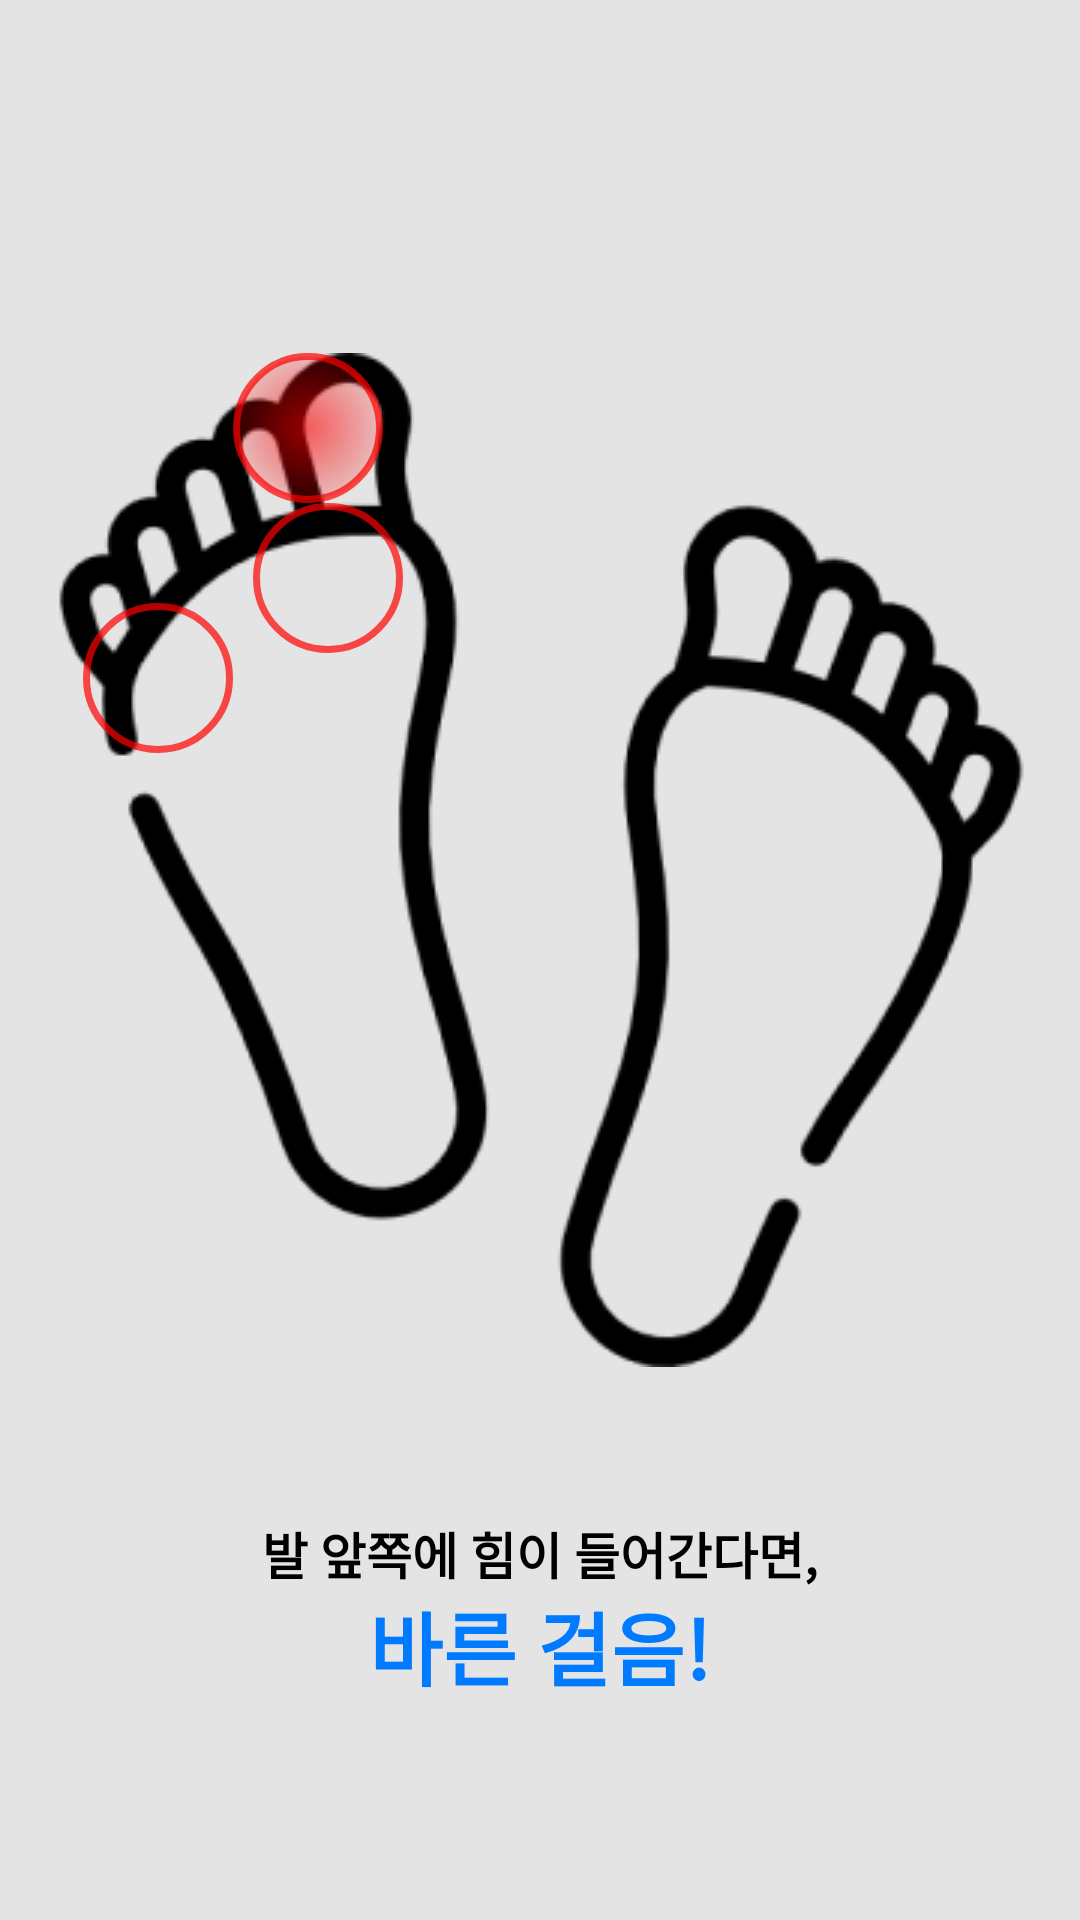

Where to tap for icons on this 1080 x 1920 app screen, as [x,y]:
follow circle: [308,428], [328,578], [158,678]
